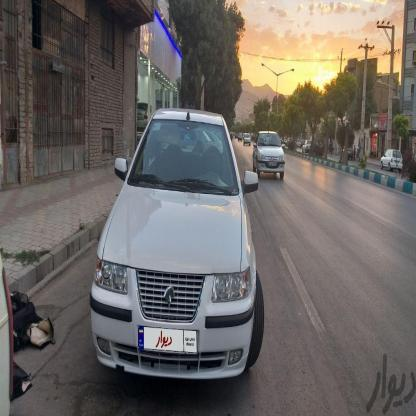Car: (85, 99, 265, 415), (249, 124, 294, 182), (380, 142, 404, 172), (240, 128, 252, 143)
